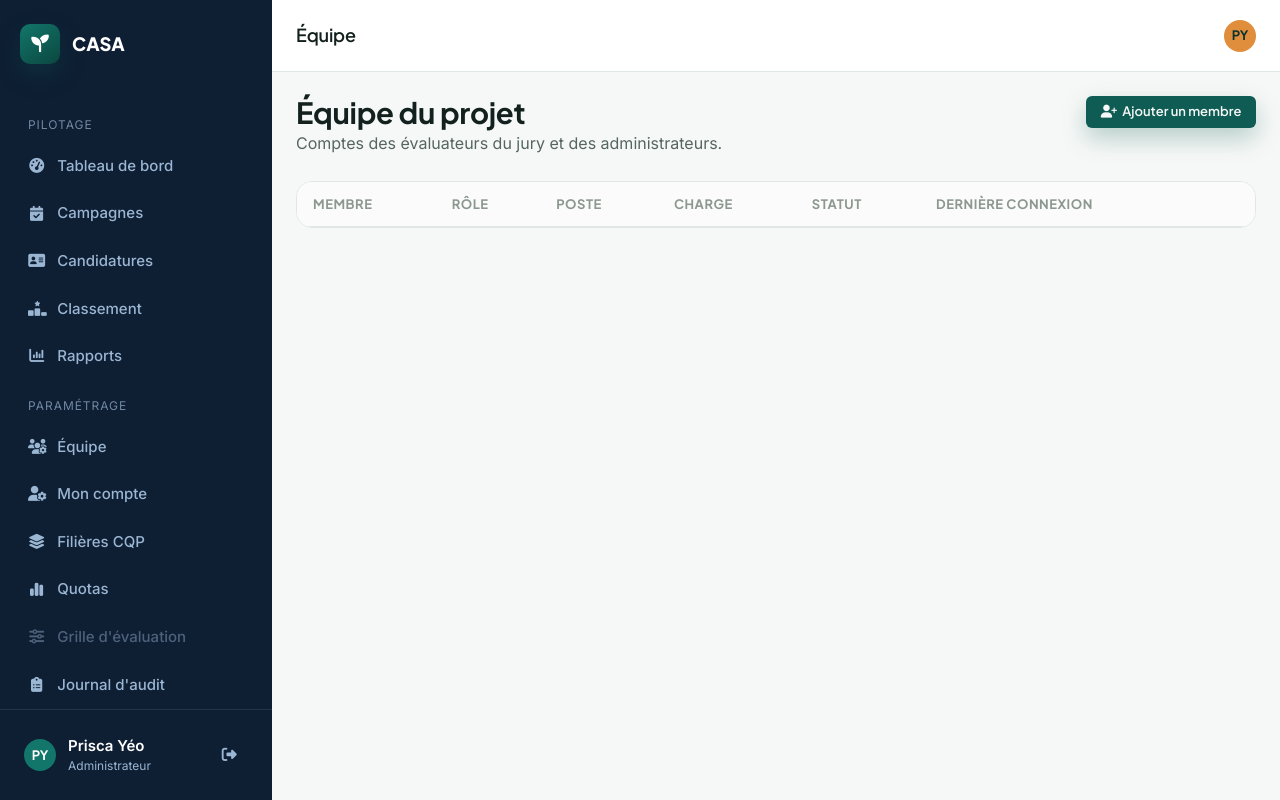
Scenario: Équipe — gestion des comptes (Lot 11b) › création réussie → affiche le mot de passe temporaire une seule fois
Click the button "Ajouter un membre" at [1171, 112], box [1086, 96, 1256, 128]
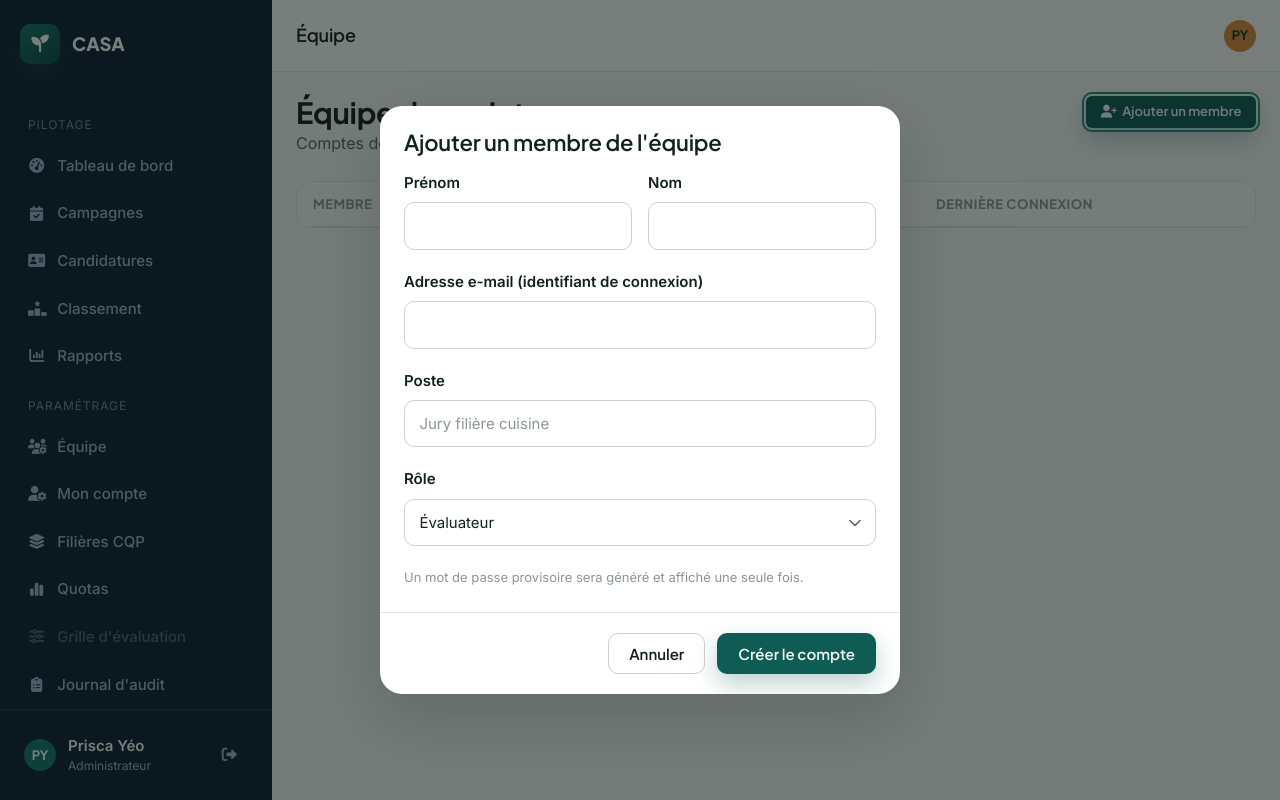
Type "Bob" into the field labelled "Prénom" at [518, 226], box [404, 202, 632, 250]
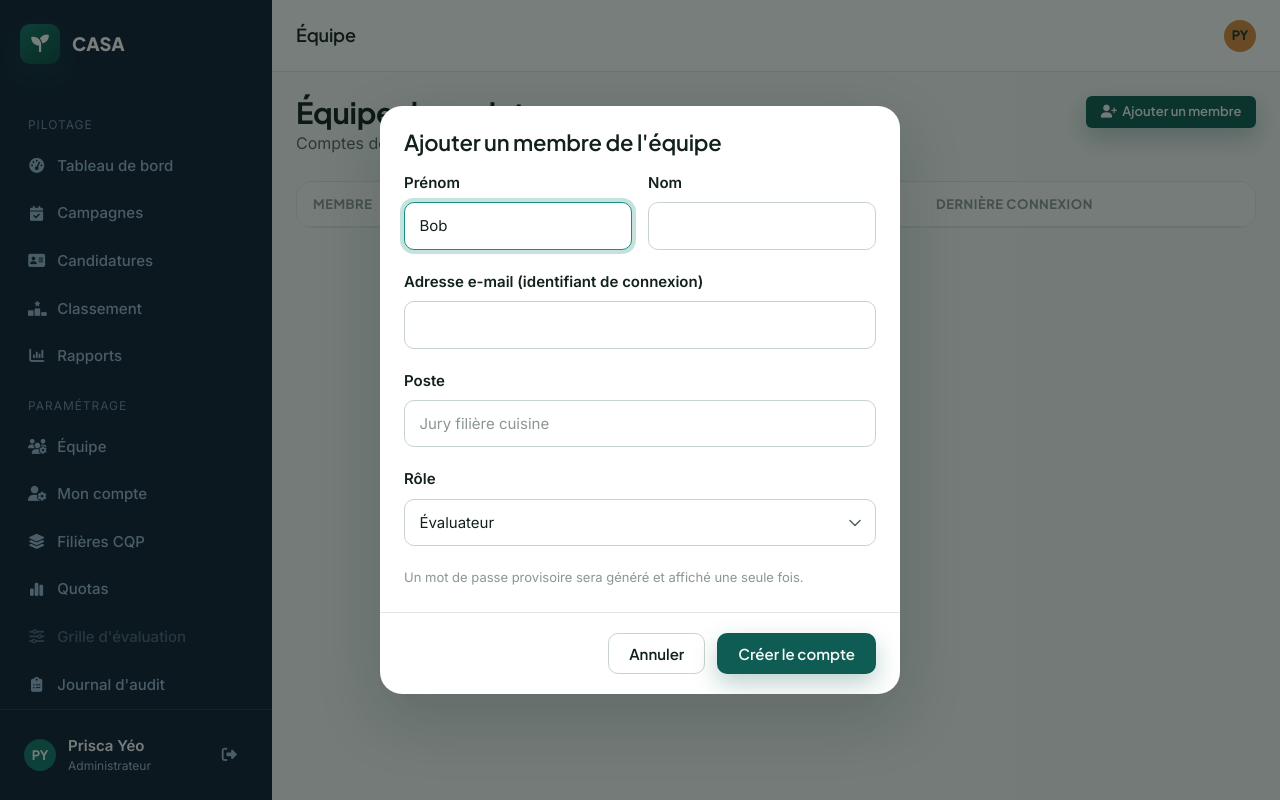
Type "Kouassi" into the field labelled "Nom" at [762, 226], box [648, 202, 876, 250]
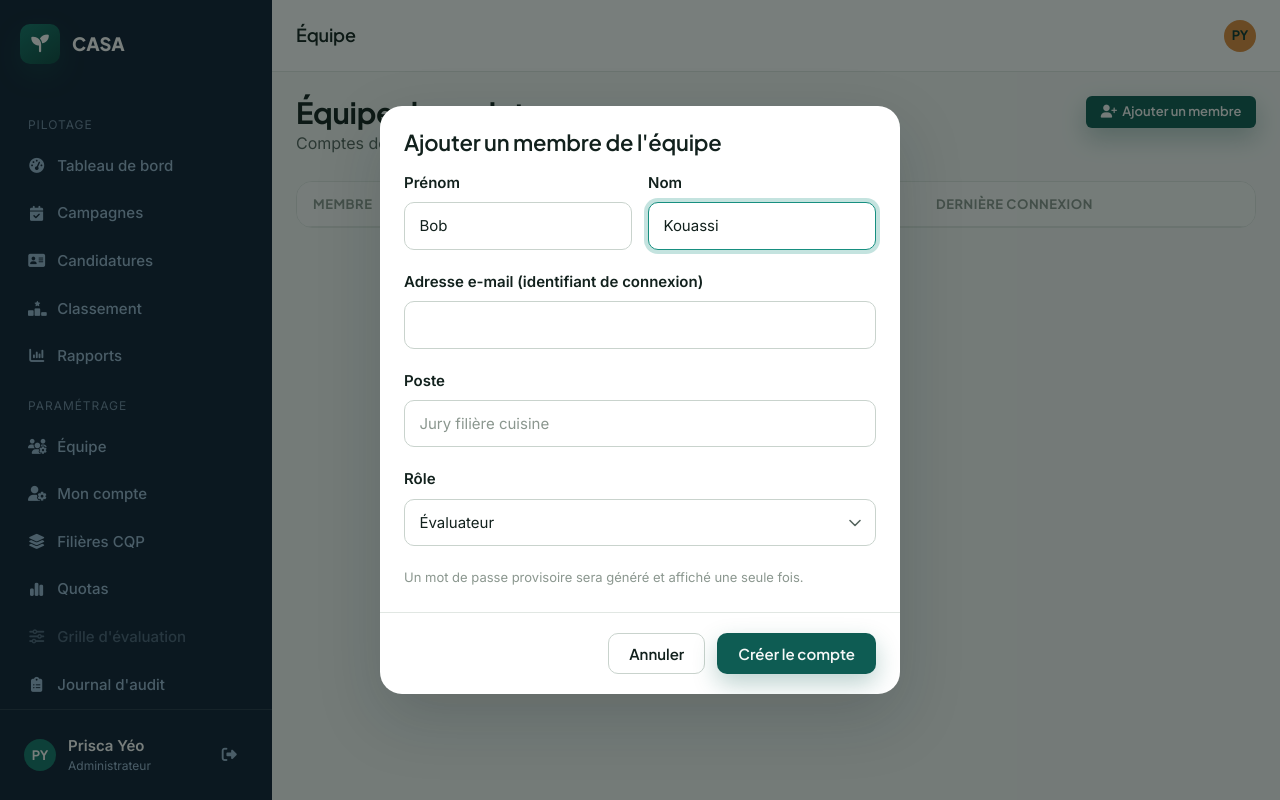
Type "bob@cci.ci" into the field labelled "Adresse e-mail (identifiant de connexion)" at [640, 325], box [404, 301, 876, 349]
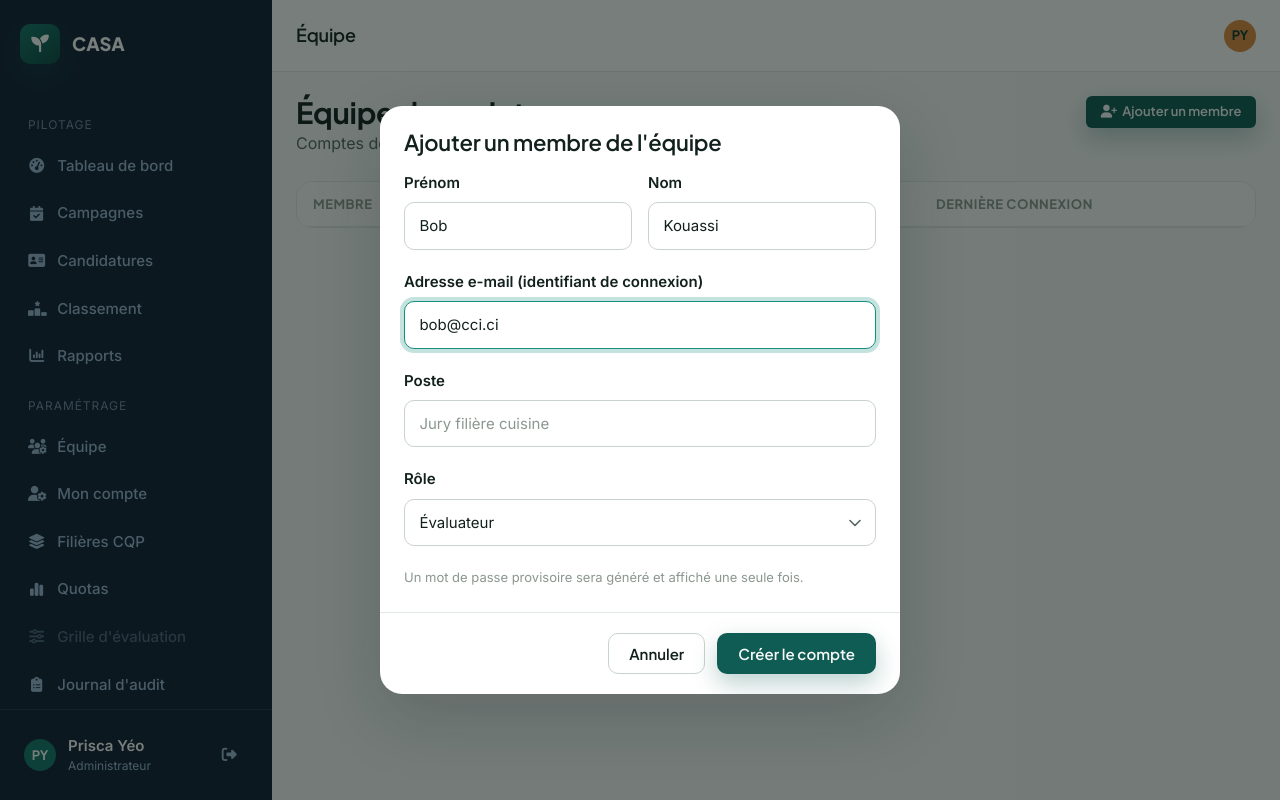
Type "Jury pâtisserie" into the field labelled "Poste" at [640, 424], box [404, 400, 876, 447]
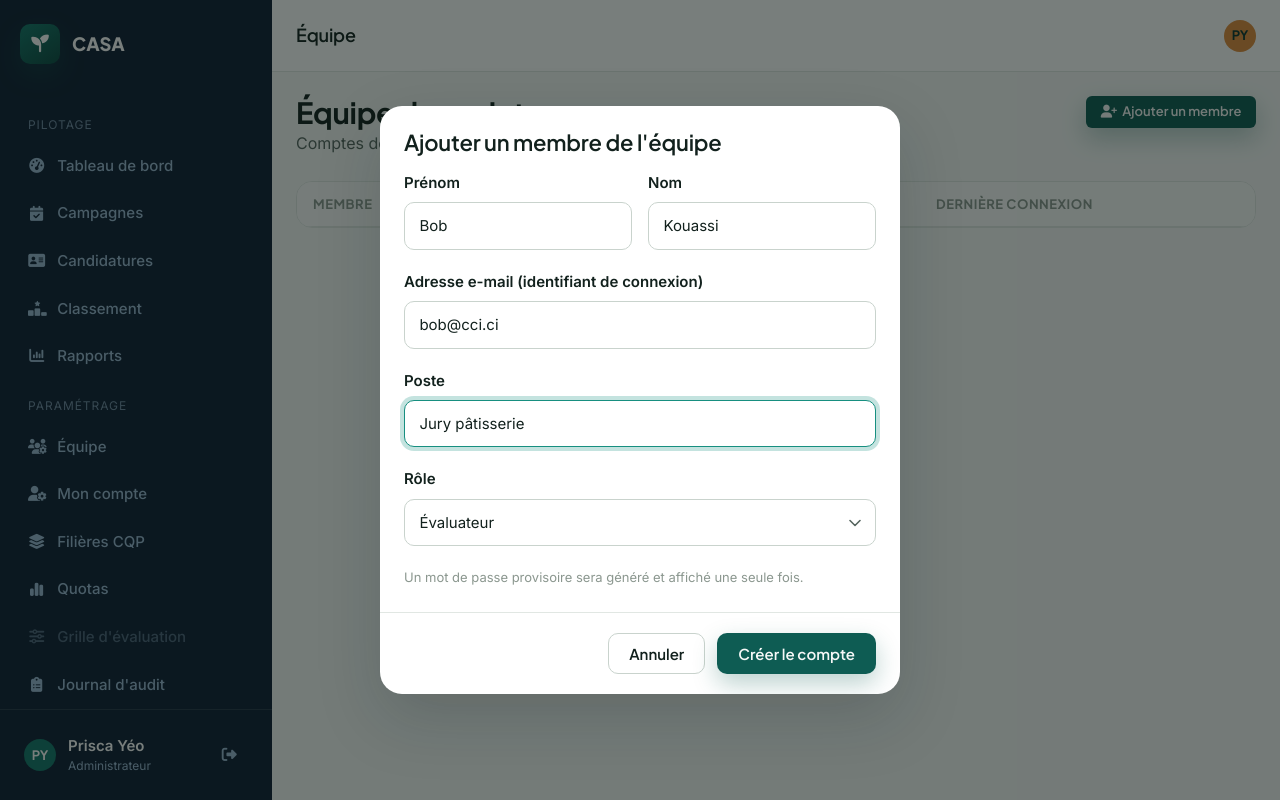
Click the button "Créer le compte" at [797, 654], box [717, 633, 876, 674]
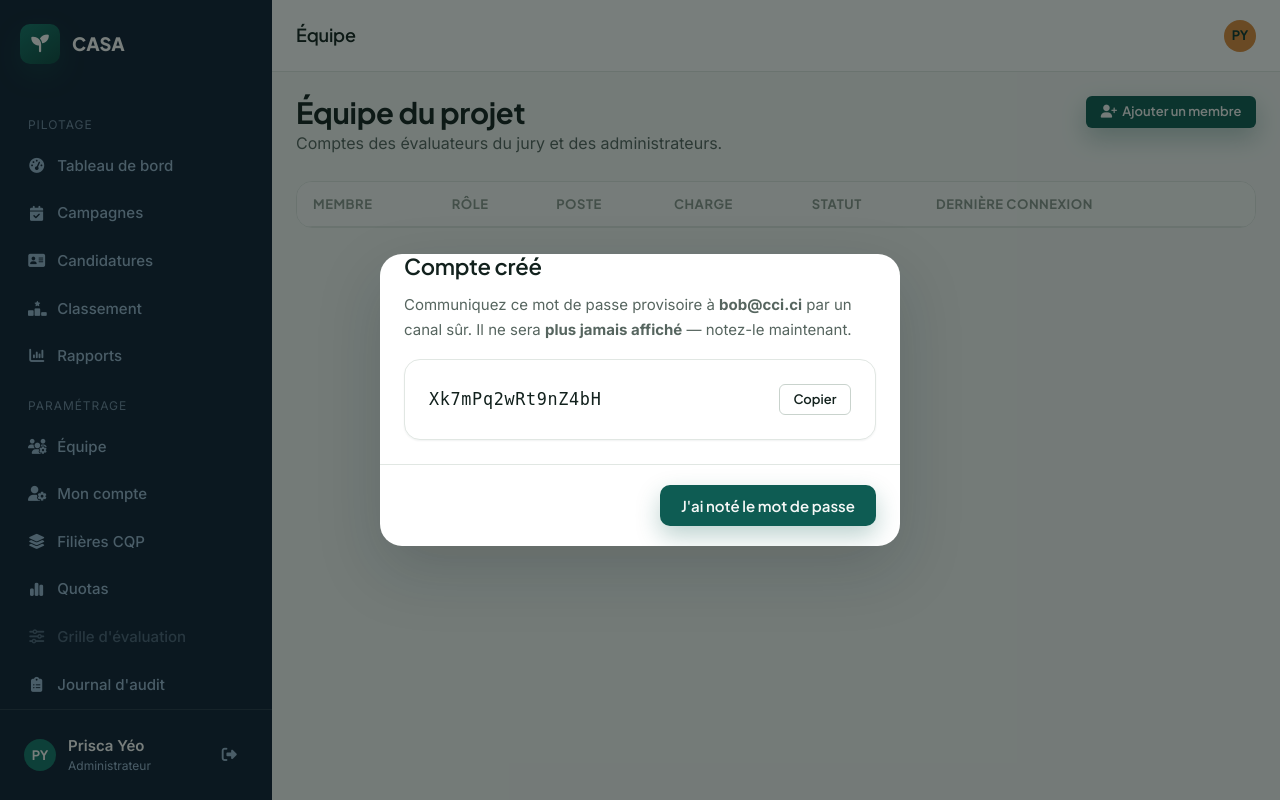
Expected: the text "Xk7mPq2wRt9nZ4bH" is shown, [429, 386, 601, 412]
Expected: the text "plus jamais affiché" is shown, [545, 320, 682, 339]
